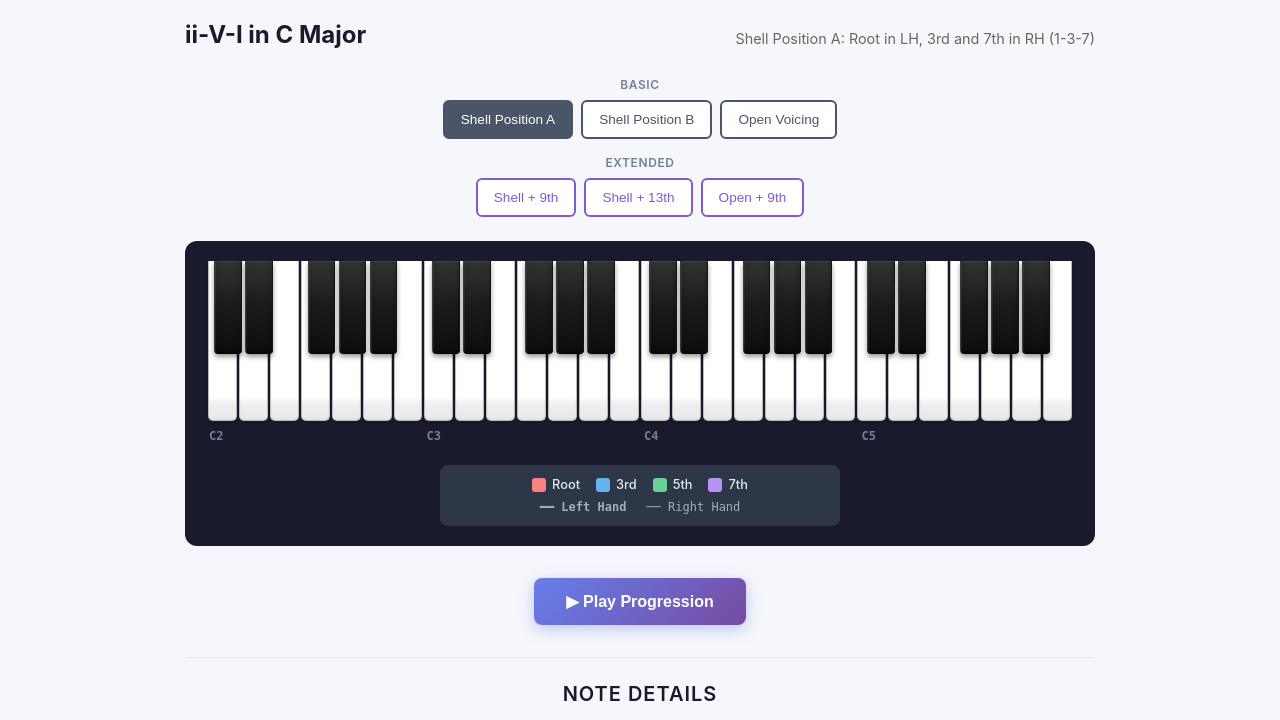
it: VoicingDisplay › switches to extended voicing and shows extended chord names
Click Shell + 9th
Click the button "Shell + 9th": [526, 198] box 476,178 -> 576,217
(page scrolled)
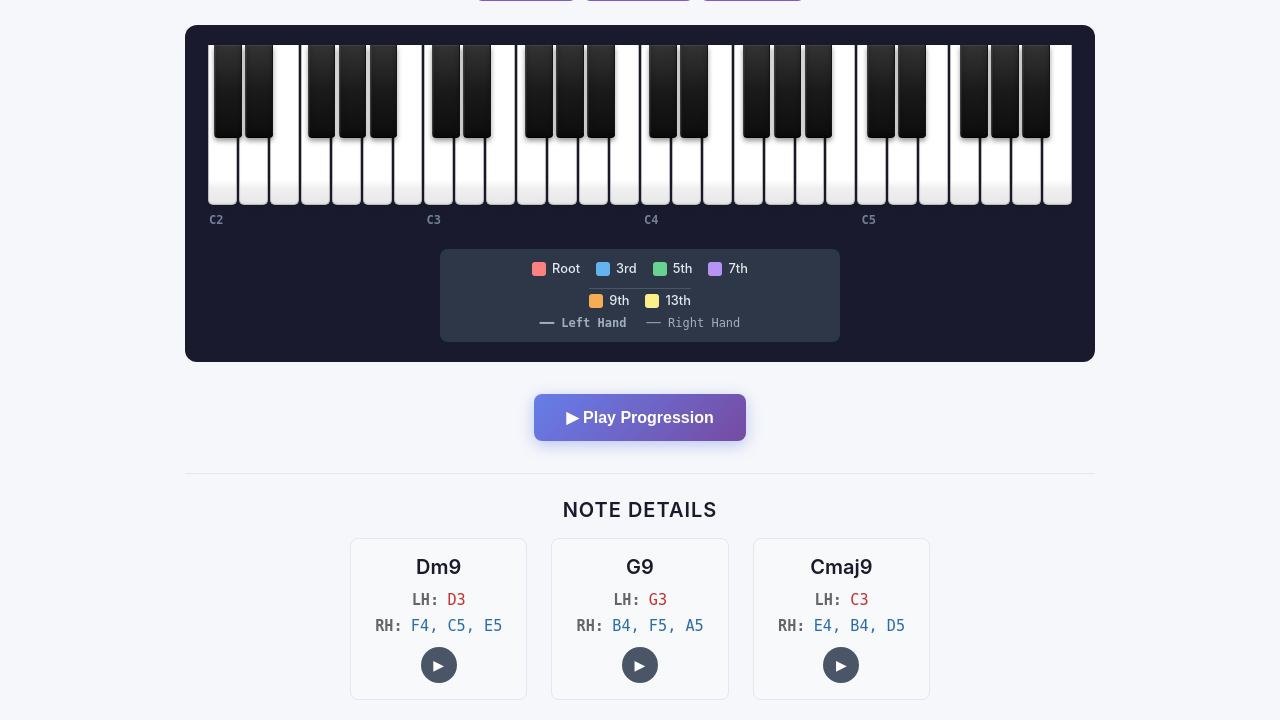
Expected: the heading "Dm9" is shown, 416,555 -> 461,579
Expected: the heading "G9" is shown, 626,555 -> 654,579
Expected: the heading "Cmaj9" is shown, 810,555 -> 873,579
